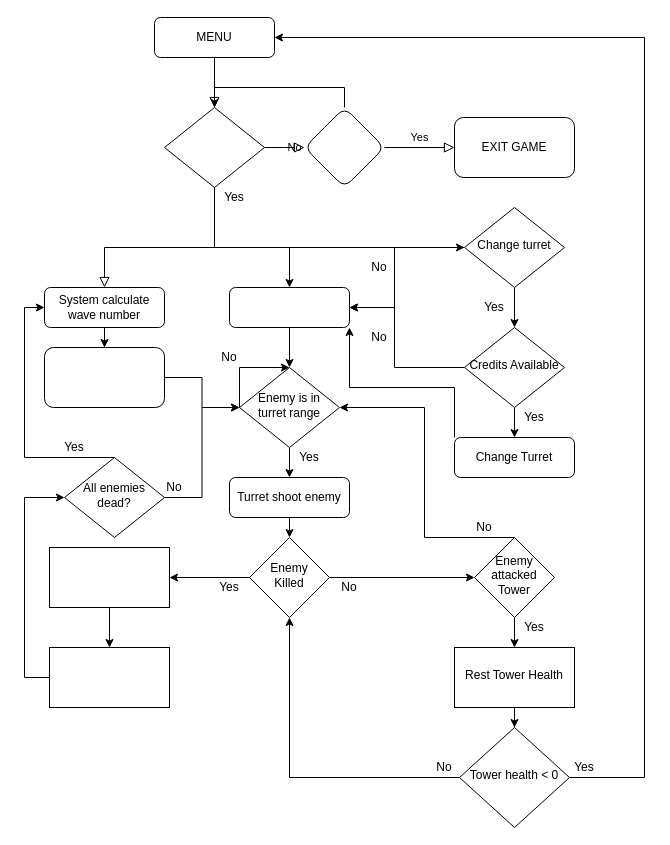
Some shapes in this 670 by 845 pixel diagram are drawn without their labels. The shapes that lost their labels are listed below. From the top down, each one's centre as x and y in pixels, then its label:
At (214,147): "PLAY".
At (344,147): "EXIT".
At (289,307): "Place Turret".
At (104,377): "Respawn n enemies".
At (109,577): "Sum score and credits".
At (109,677): "Destroy enemy".
